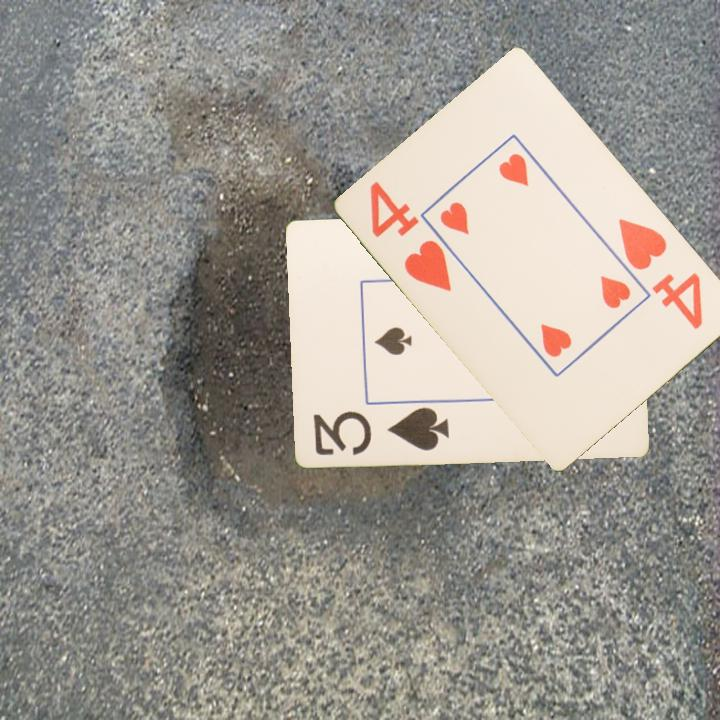3s: (310, 403, 452, 458)
4h: (615, 214, 707, 333), (366, 177, 455, 295)
